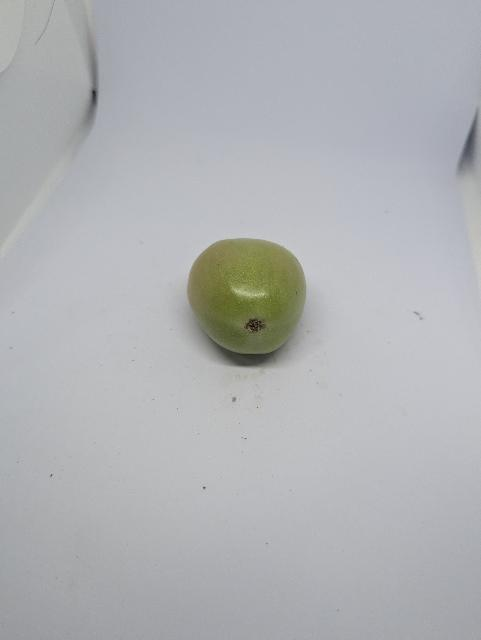green: (184, 235, 312, 357)
